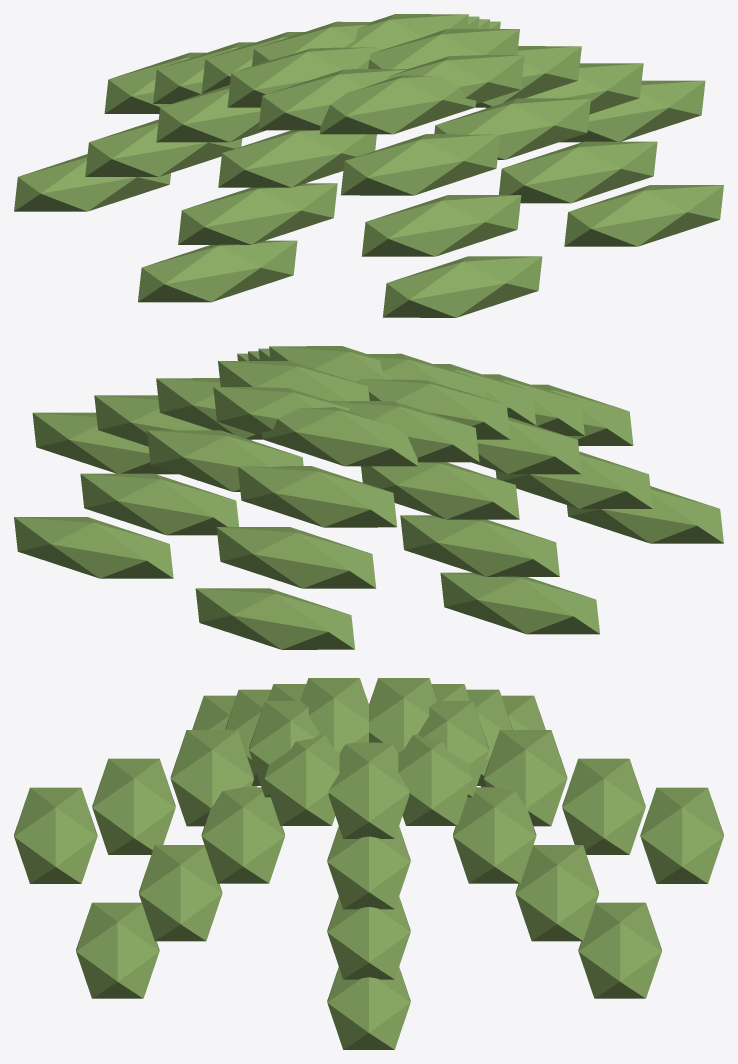
The model's file is prop_fern.glb.
The picture shows the model from 3 angles, top to bottom: view 1: azimuth 30°, elevation 25°; view 2: azimuth 150°, elevation 25°; view 3: azimuth 270°, elevation 25°; orthographic projection. The views are drawn at different scales.
Visible parts, largest first — view 1: Geometry; view 2: Geometry; view 3: Geometry.
Part boxes in pixels (left/top/right/bottom): Geometry: left=14, top=14, right=723, bottom=317; Geometry: left=14, top=346, right=723, bottom=649; Geometry: left=14, top=678, right=723, bottom=1049.
Size of the model in its own units: 0.9169 by 0.205 by 0.7955.
